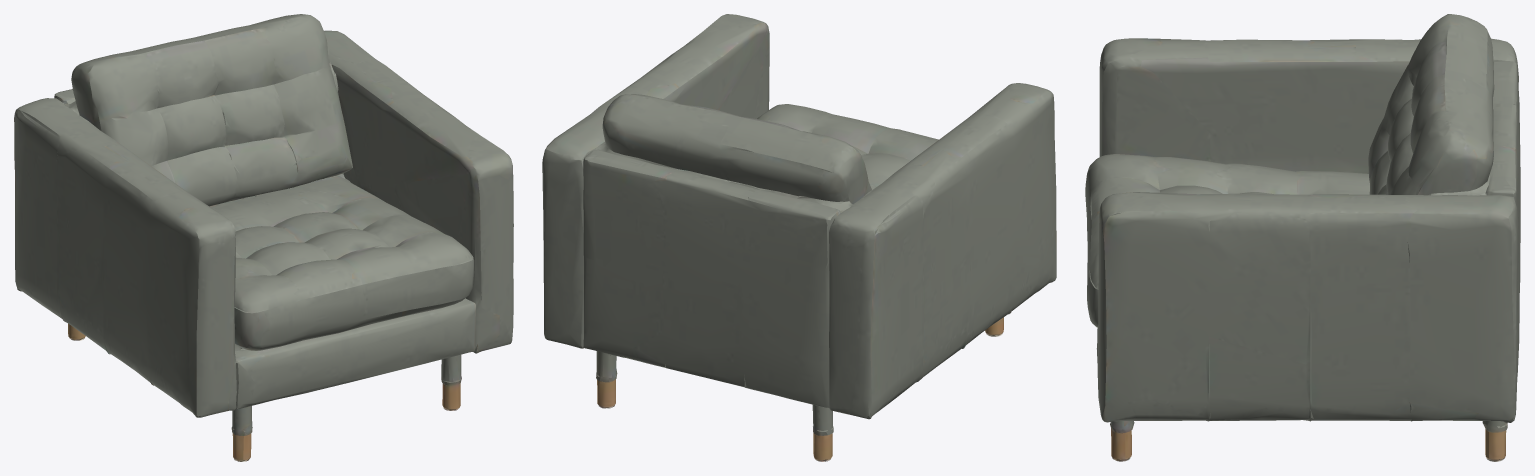
3 views of the same model, side by side, from view 1: azimuth 30°, elevation 25°; view 2: azimuth 150°, elevation 25°; view 3: azimuth 270°, elevation 25° (orthographic). The views are drawn at different scales.
Parts seen in each view (by area): view 1: ProcessedMeshNode; view 2: ProcessedMeshNode; view 3: ProcessedMeshNode.
Boxes of the visible parts, <box> form: ProcessedMeshNode: <box>14,14,513,461</box>; ProcessedMeshNode: <box>542,14,1056,461</box>; ProcessedMeshNode: <box>1085,14,1520,461</box>.
Bounding box in the file's own units: 0.9028 × 0.7645 × 0.9168.
1 material, 1 textured.
